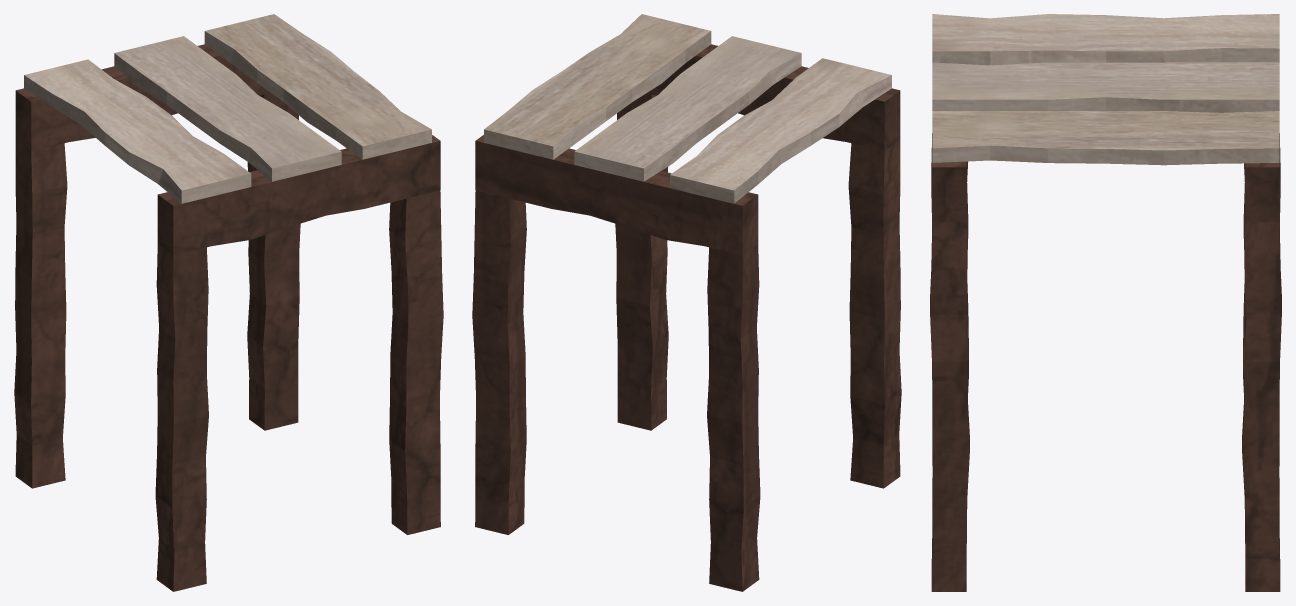
File: Wooden platform2.glb
3 views of the same model, side by side, from view 1: azimuth 30°, elevation 25°; view 2: azimuth 150°, elevation 25°; view 3: azimuth 270°, elevation 25° (orthographic). The views are drawn at different scales.
Parts seen in each view (by area): view 1: Cube.003, Cube.006, Cube.005, Cube.004; view 2: Cube.003, Cube.006, Cube.005, Cube.004; view 3: Cube.003, Cube.005, Cube.004, Cube.006.
Boxes of the visible parts, box(x1,y1,x2,y2) form: Cube.003: box(24, 14, 431, 203); Cube.006: box(14, 140, 208, 591); Cube.005: box(247, 93, 443, 534); Cube.004: box(15, 44, 440, 255); Cube.003: box(484, 14, 891, 203); Cube.006: box(707, 140, 901, 591); Cube.005: box(472, 93, 668, 534); Cube.004: box(475, 44, 900, 255); Cube.003: box(932, 14, 1279, 165); Cube.005: box(930, 205, 1281, 591); Cube.004: box(932, 161, 1279, 221); Cube.006: box(931, 133, 1280, 466).
Bounding box in the file's own units: 5.12 × 7.2 × 5.23.
1 material, 1 textured.
